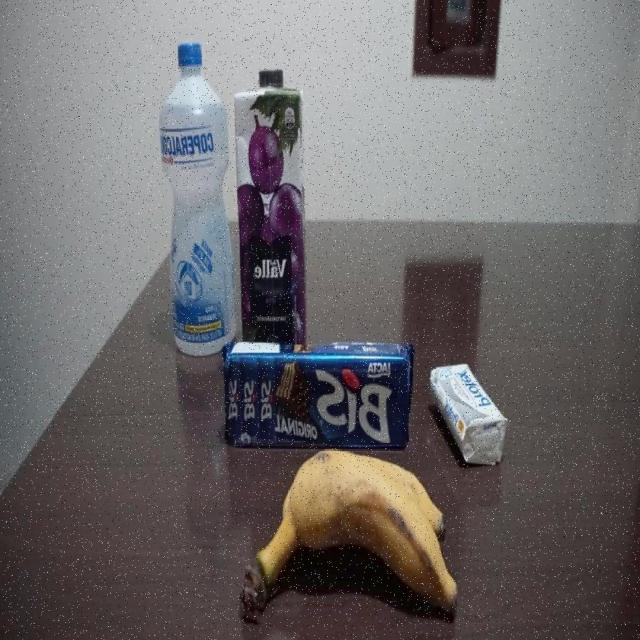AlcoholBottle: (155, 40, 236, 361)
Banana: (240, 451, 459, 619)
Soap: (426, 362, 511, 469)
